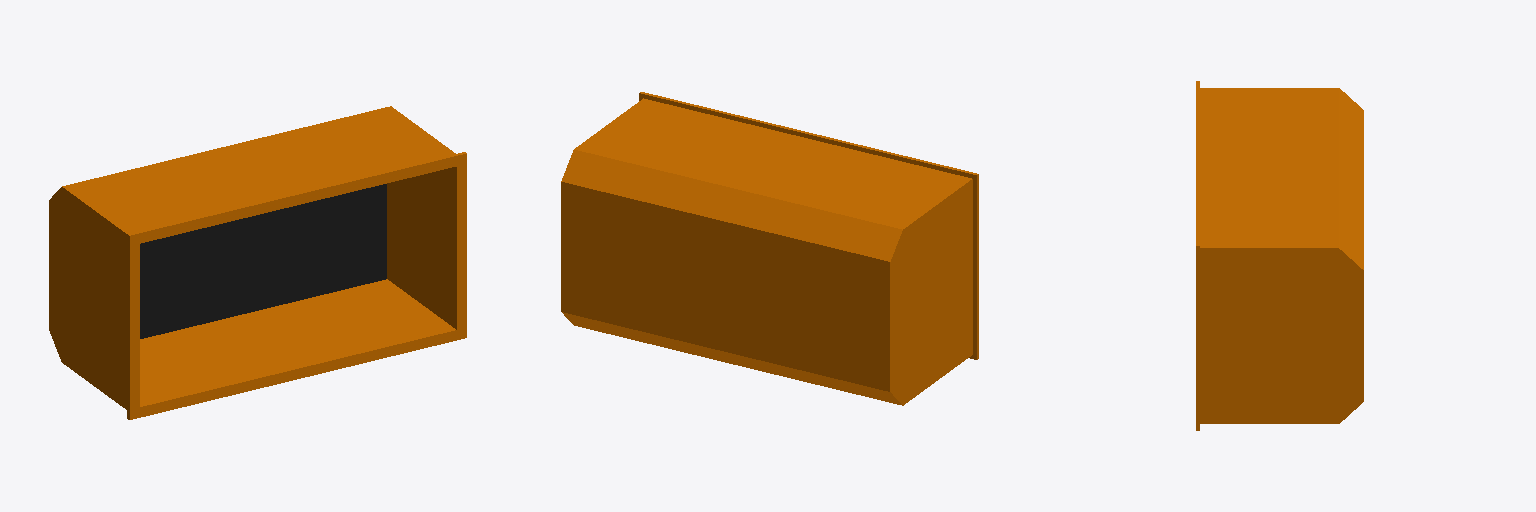
The model's file is 170608_dumpster_3.obj.
3 renders of one model, left to right at view 1: azimuth 30°, elevation 25°; view 2: azimuth 150°, elevation 25°; view 3: azimuth 270°, elevation 25°, orthographic.
Parts seen in each view (by area): view 1: _dumpster_5:Deponie4; view 2: _dumpster_5:Deponie4; view 3: _dumpster_5:Deponie4.
Boxes of the visible parts, x1,y1,x2,y2 form: _dumpster_5:Deponie4: [49, 106, 466, 419]; _dumpster_5:Deponie4: [561, 92, 978, 405]; _dumpster_5:Deponie4: [1196, 81, 1363, 430].
Size of the model in its own units: 4.61 by 2.41 by 2.